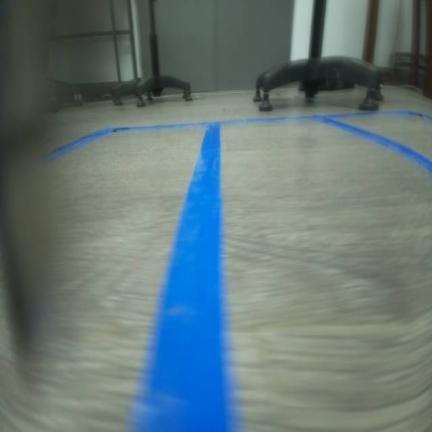place: (131, 113, 431, 431), (0, 118, 235, 431), (315, 108, 431, 172)
